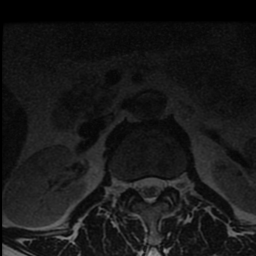CCS_normal: (144, 166, 154, 209)
LFS_stenosis: (164, 169, 173, 196)
LLS_normal: (155, 168, 164, 203)
RFS_stenosis: (124, 171, 134, 198)
RLS_normal: (134, 168, 144, 201)
